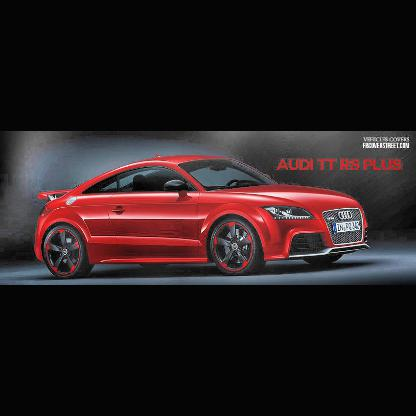Audi TT RS Coupe 2012: (36, 153, 369, 278)
